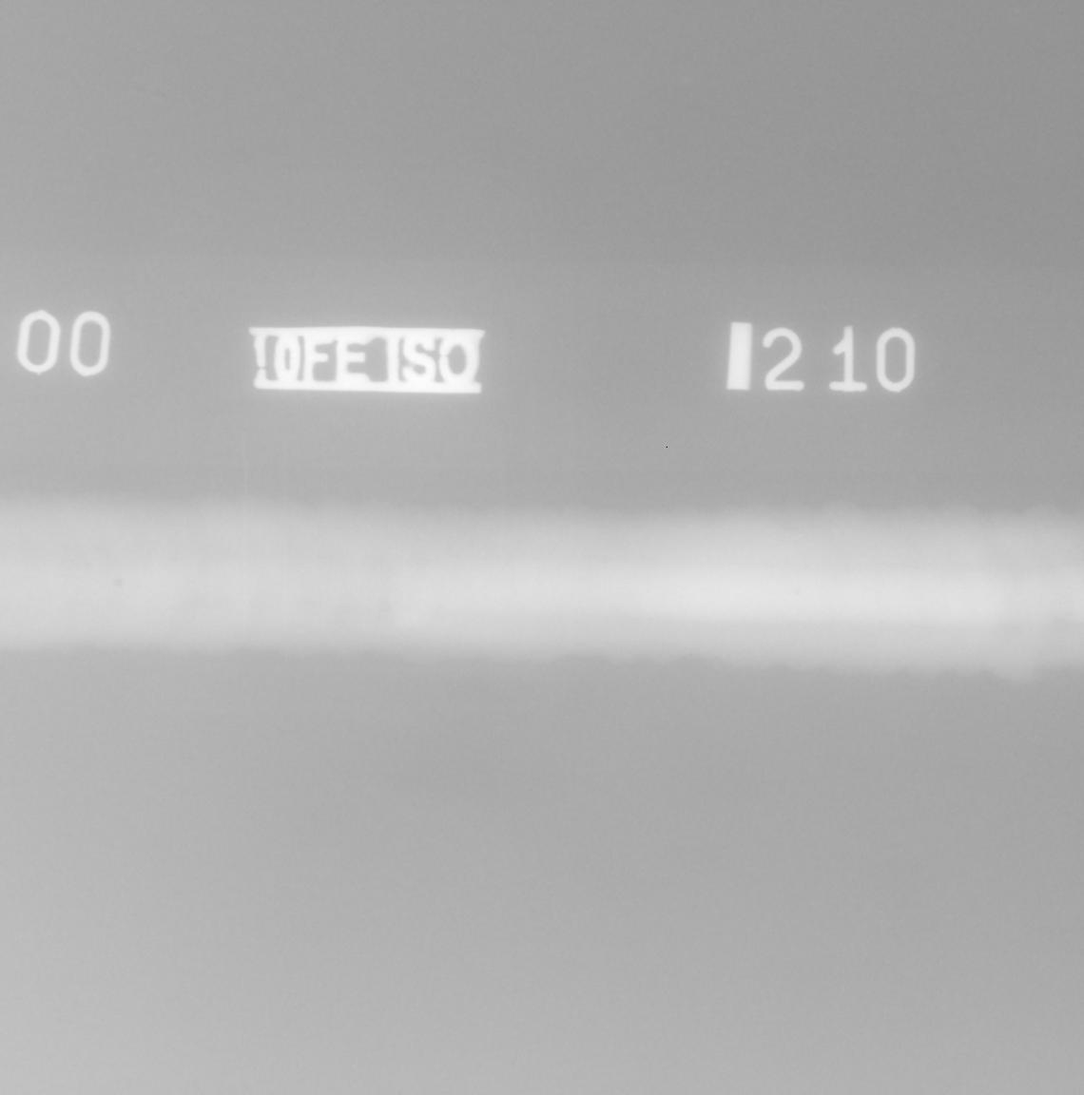Inclusion: (171, 552, 178, 563)
Pore/Porosity: (115, 580, 122, 587), (85, 563, 91, 571), (794, 589, 799, 595), (943, 604, 948, 609), (972, 609, 977, 614), (804, 565, 808, 570), (865, 589, 870, 593)
